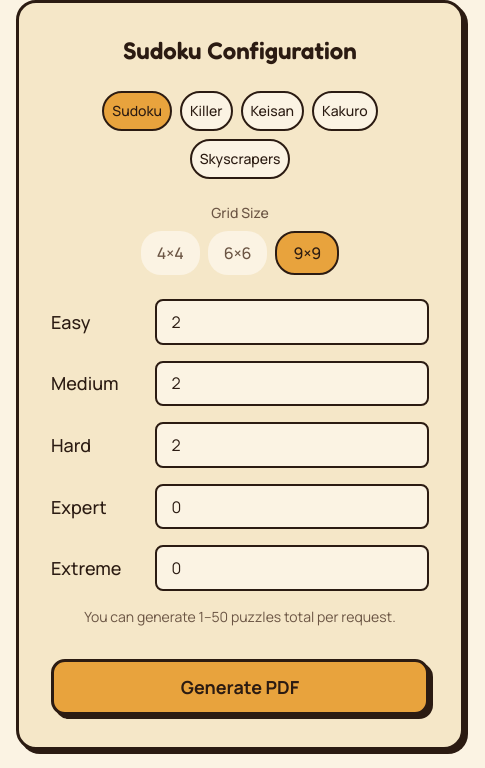
Scenario: PuzzleForm Component › shows the loading state while a request is in flight
This screenshot has width=485, height=768.
Click the button "Generate PDF": (240,687) [51,659,429,715]
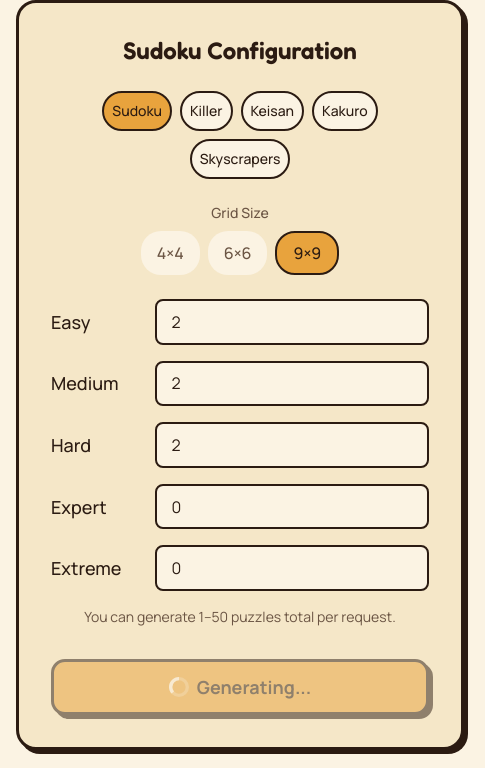
Expected: the button "Generating..." is disabled, [51,659,429,715]
